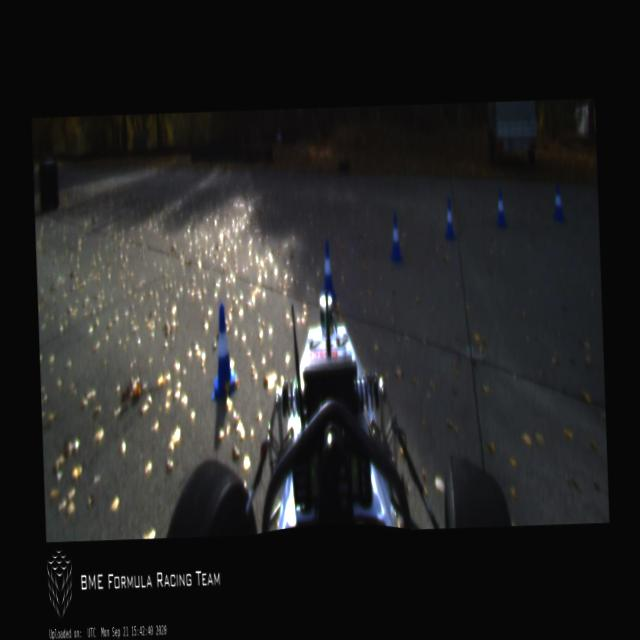blue_cone: (208, 302, 237, 400), (321, 240, 336, 300), (388, 212, 402, 263), (443, 198, 455, 241), (494, 188, 506, 228), (552, 184, 564, 222)
